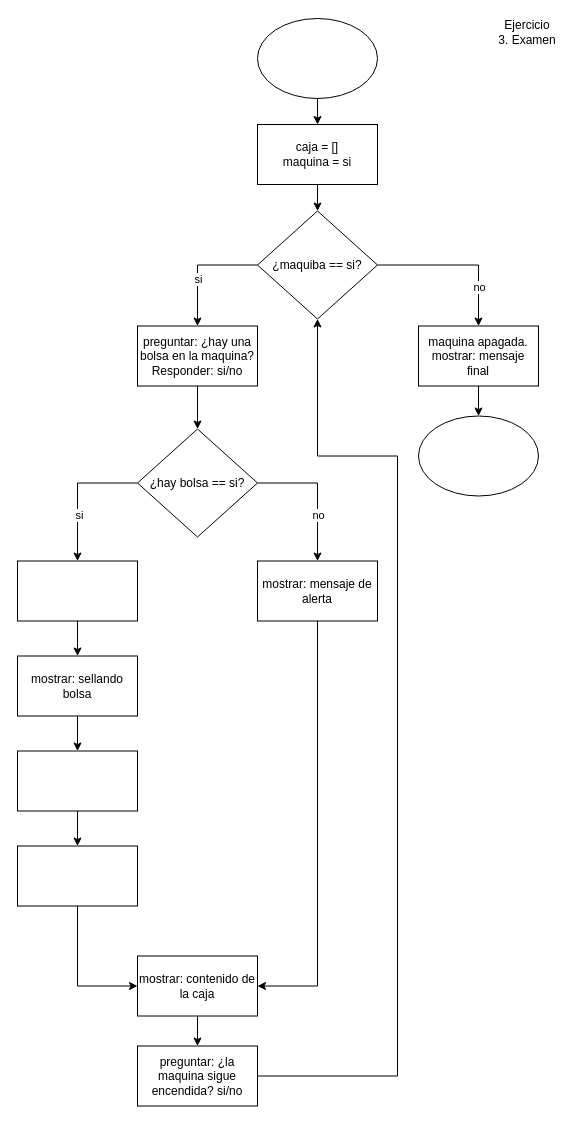
Image size: 575x1123. Some labels were removed from this diagram. The centre of each missing label's shape, as x and y in pixels:
fin: pixel 478 455
inicio: pixel 317 58
mostrar: "una bolsa de arroz" en lista "caja": pixel 77 875
mostrar: bolsa empacada en caja: pixel 77 780
mostrar: vaciar arroz en bolsa: pixel 77 590
